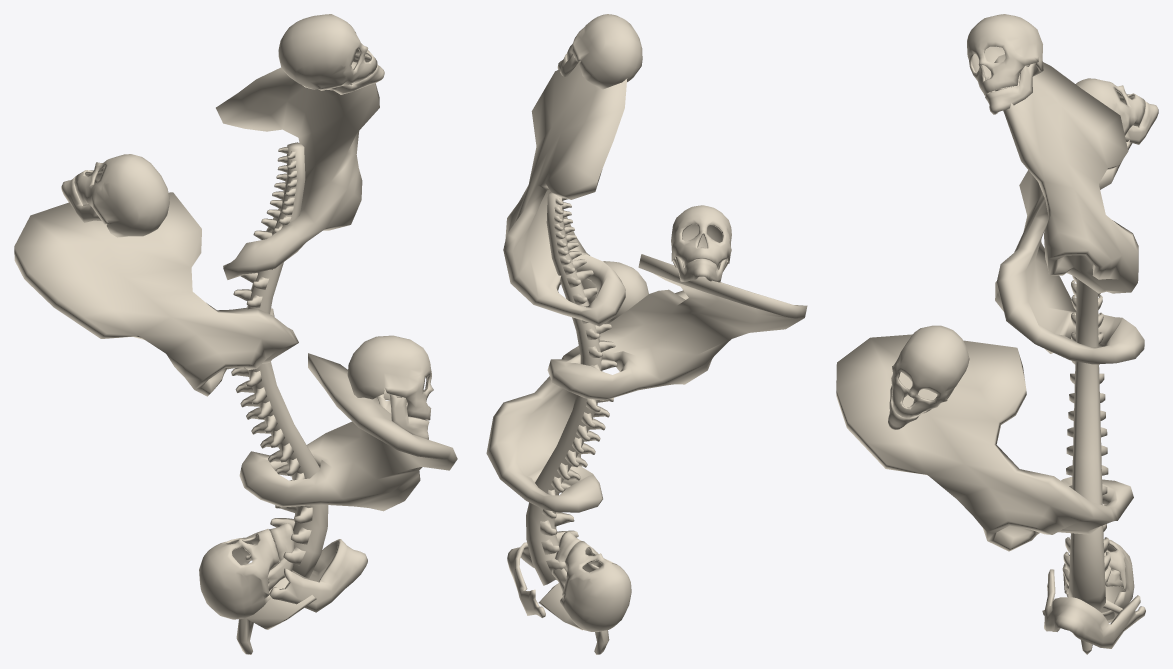
The model's file is BonePile_10.glb.
3 renders of one model, left to right at view 1: azimuth 30°, elevation 25°; view 2: azimuth 150°, elevation 25°; view 3: azimuth 270°, elevation 25°, orthographic. The views are drawn at different scales.
Parts seen in each view (by area): view 1: BonePile_10; view 2: BonePile_10; view 3: BonePile_10.
Part boxes in pixels (x1,y1,x2,y2): BonePile_10: (14, 14, 457, 654); BonePile_10: (486, 14, 807, 654); BonePile_10: (836, 14, 1158, 654).
Bounding box in the file's own units: 0.6881 × 1.24 × 0.5582.
